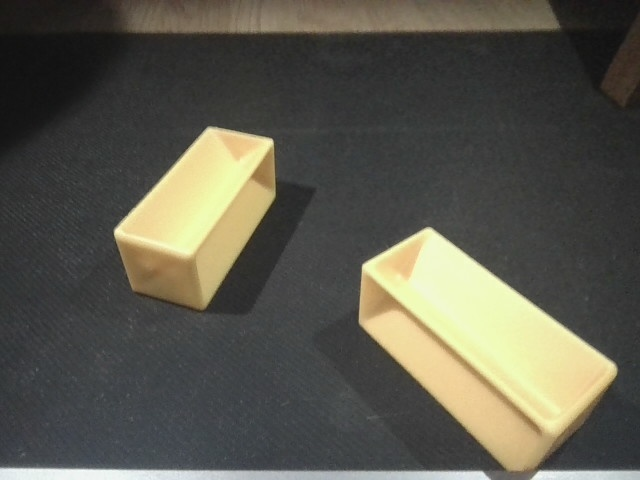YellowSample: (350, 223, 620, 472), (111, 123, 281, 316)
